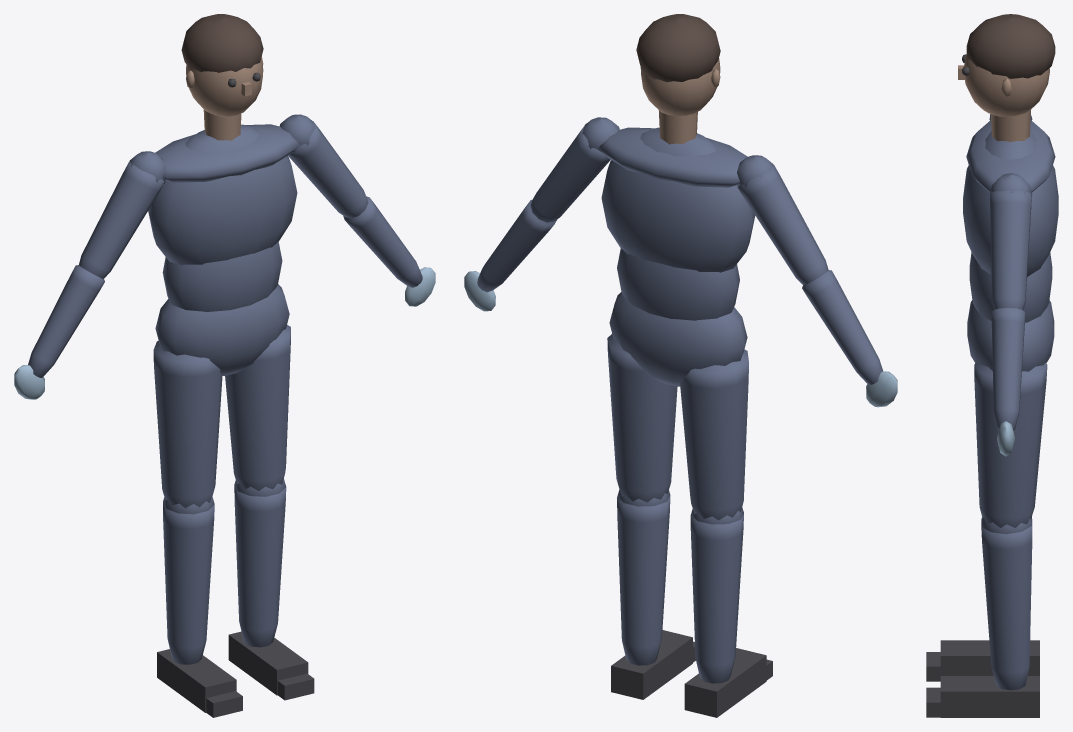
The model's file is Okafor.glb.
3 views of the same model, side by side, from view 1: azimuth 30°, elevation 25°; view 2: azimuth 150°, elevation 25°; view 3: azimuth 270°, elevation 25° (orthographic). The views are drawn at different scales.
Visible parts, largest first — view 1: Okafor; view 2: Okafor; view 3: Okafor.
Part boxes in pixels (x1,y1,x2,y2): Okafor: [14, 14, 435, 717]; Okafor: [464, 14, 897, 717]; Okafor: [926, 14, 1058, 717].
Size of the model in its own units: 1.28 by 1.9 by 0.3392.
